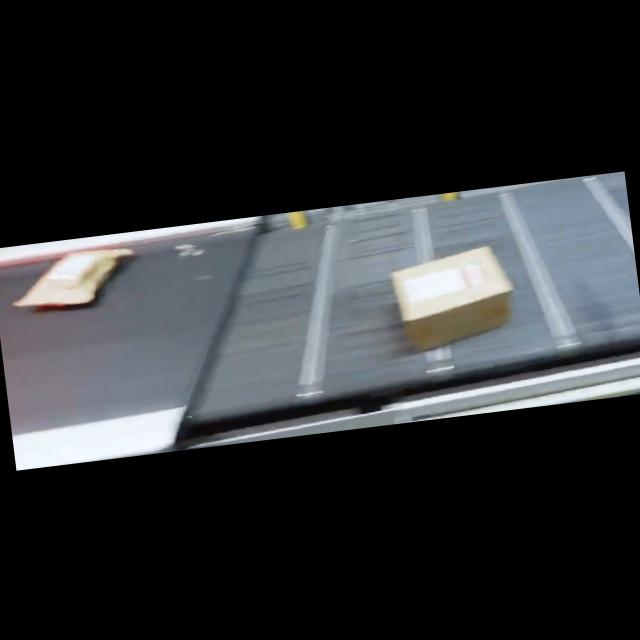box: (387, 242, 518, 354)
mailer: (7, 241, 132, 314)
